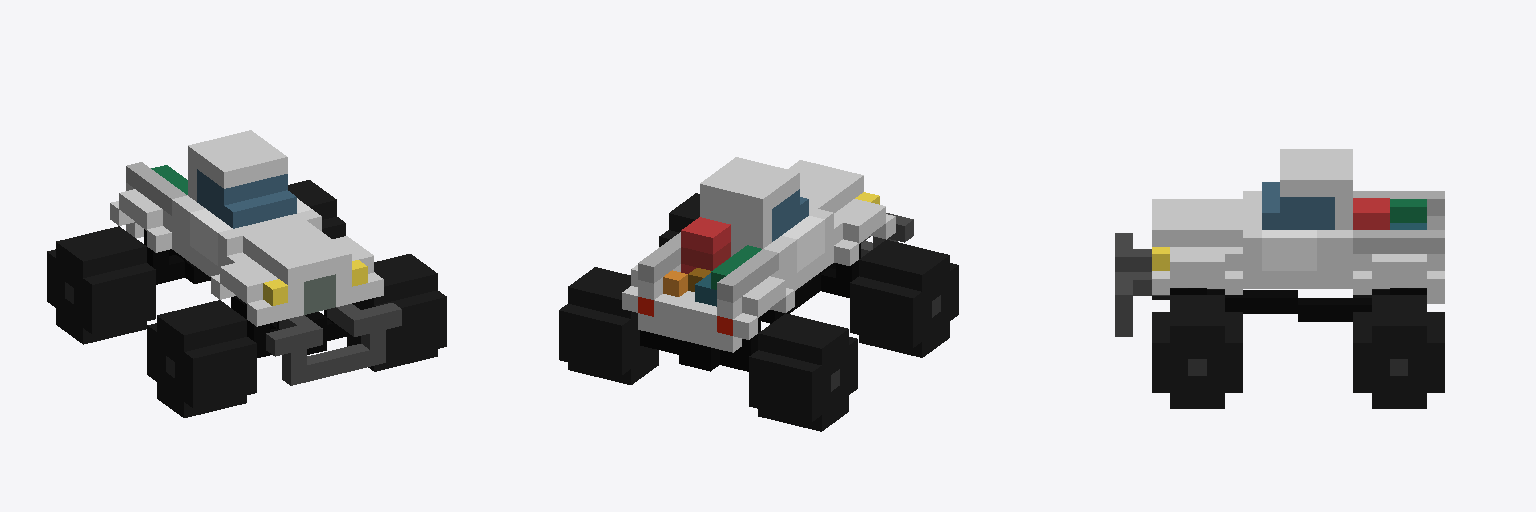
3 views of the same model, side by side, from view 1: azimuth 30°, elevation 25°; view 2: azimuth 150°, elevation 25°; view 3: azimuth 270°, elevation 25° (orthographic).
Size of the model in its own units: 16 by 11 by 18.
Materials: 1 (1 with a texture image).